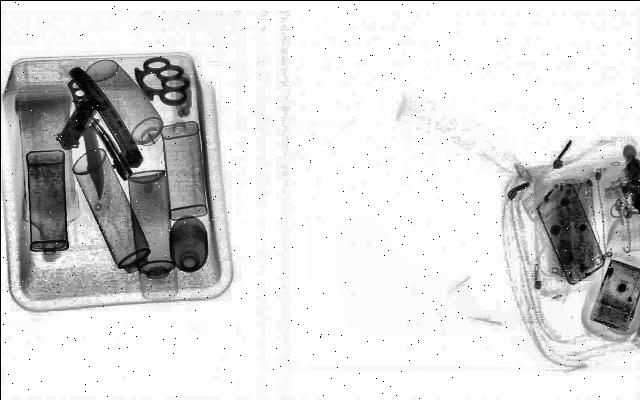Knife: (67, 77, 113, 197)
